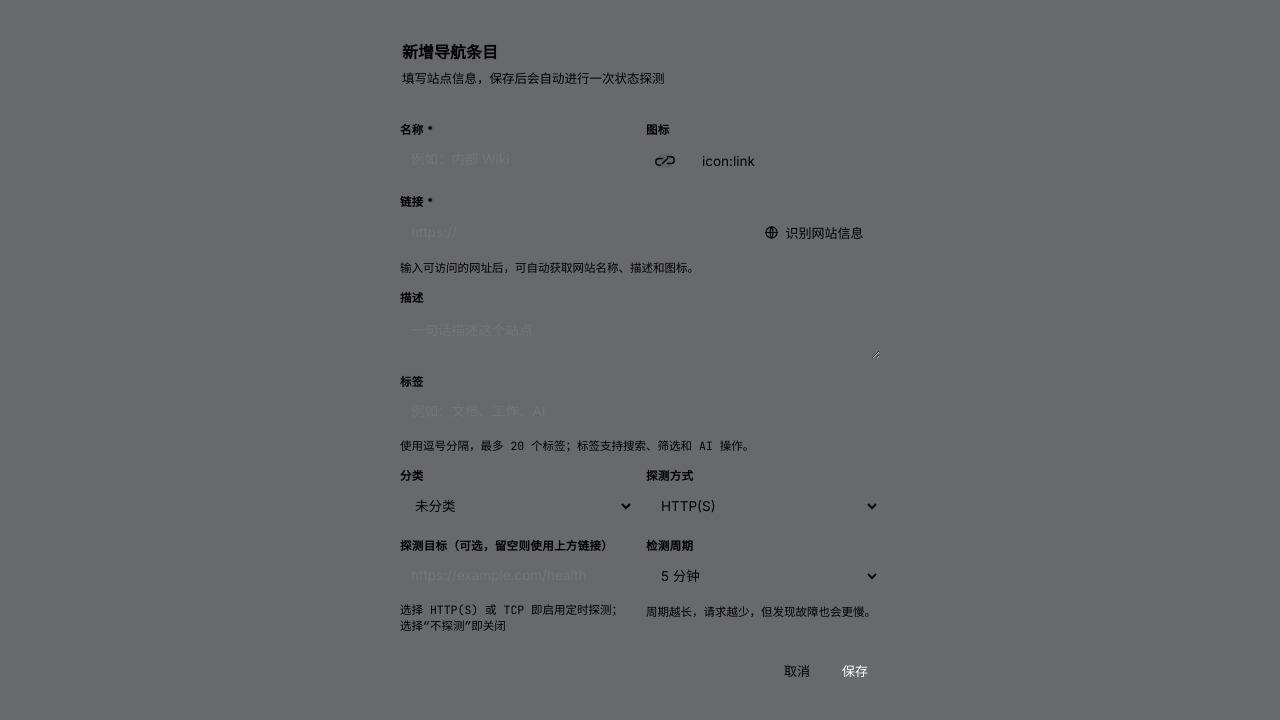
ItemFormModal › chooses grouped vector icons from the dedicated dialog
Click the button named "选择图标" at [665, 161], box [646, 143, 684, 179]
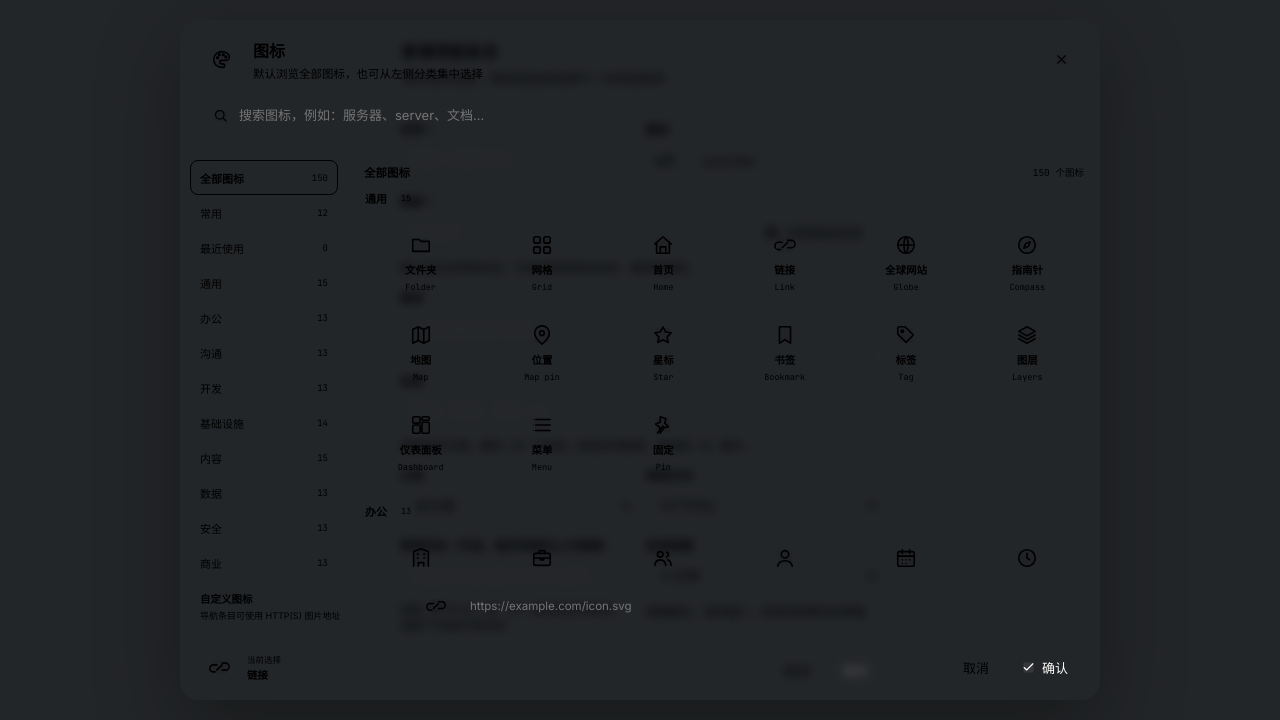
Click the button named "安全13" at [264, 528], box [190, 510, 338, 545]
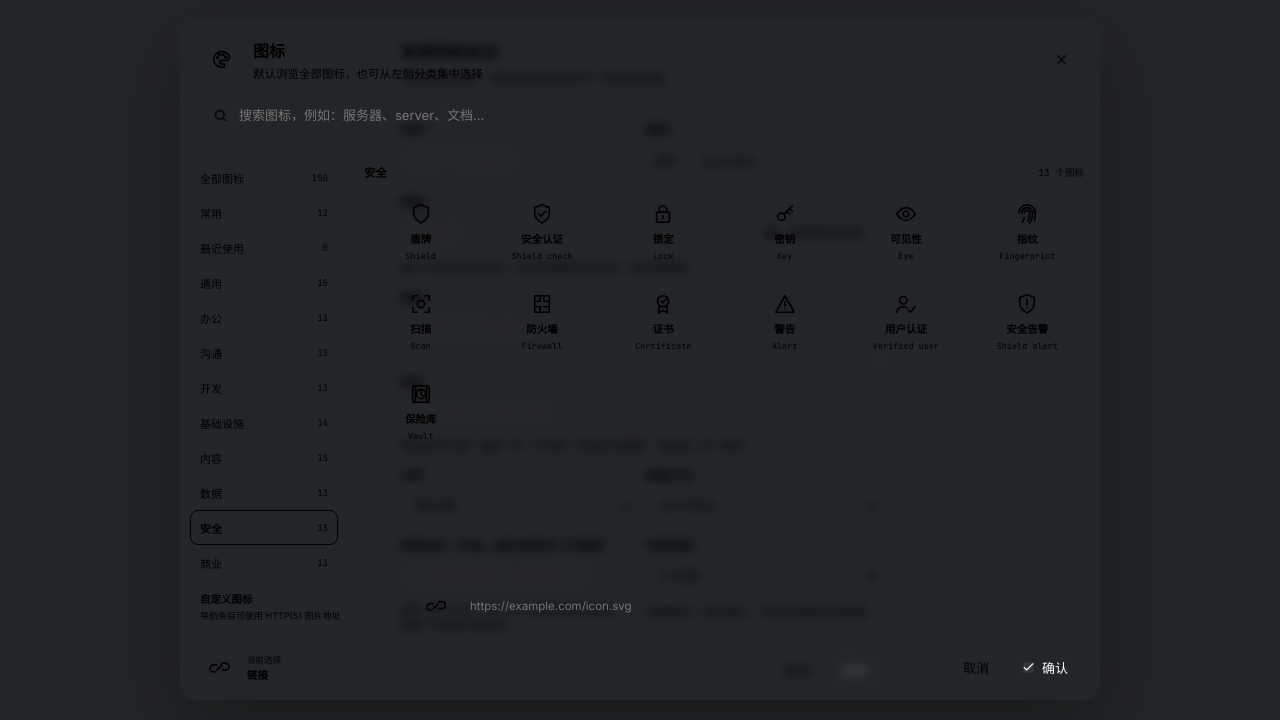
Click the button named "选择图标 安全认证 Shield check" at [542, 231], box [485, 190, 599, 272]
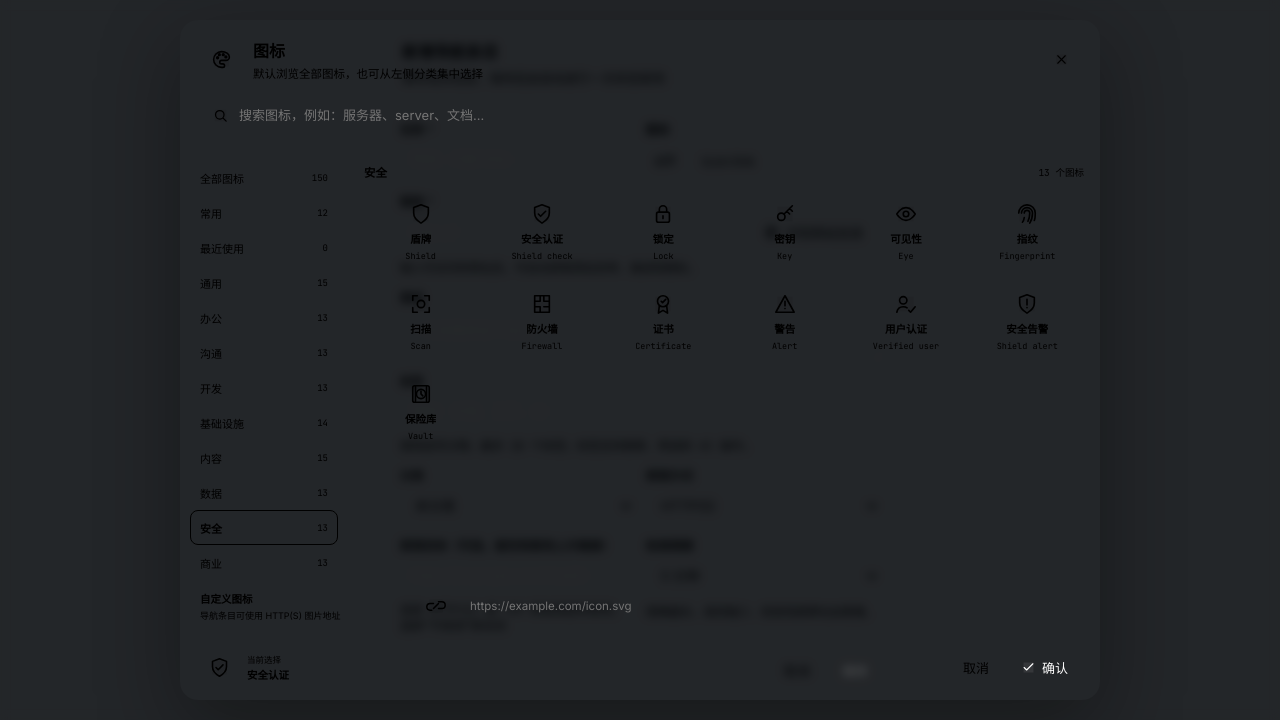
Click the button "确认" at [1044, 667], box [1009, 650, 1080, 684]
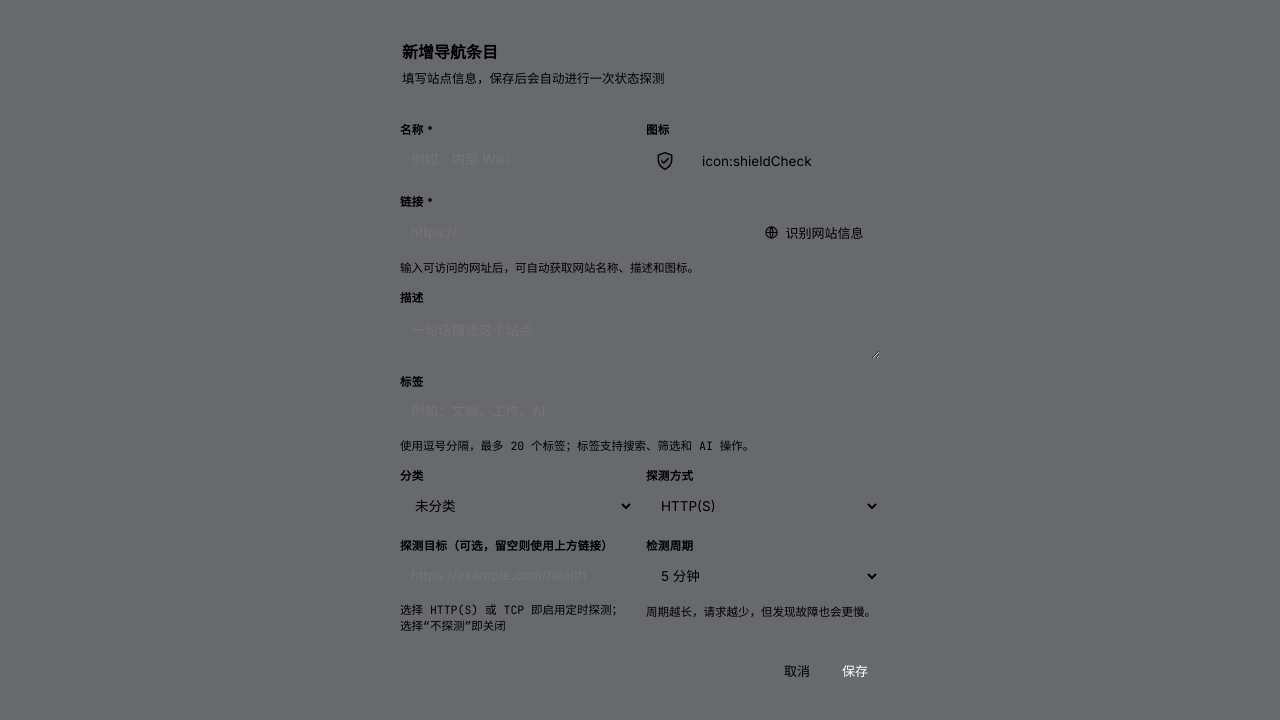
Expected: the field named "图标 URL" holds "icon:shieldCheck", [691, 145, 880, 177]
